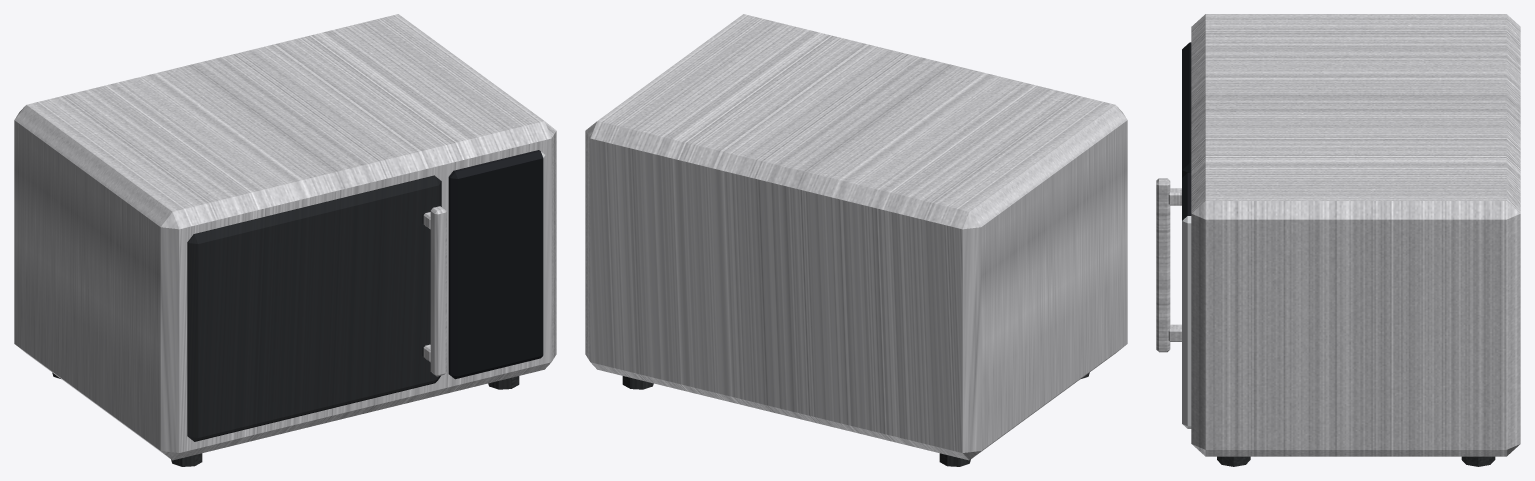
File: 07_Microondas_Oficina.obj
3 views of the same model, side by side, from view 1: azimuth 30°, elevation 25°; view 2: azimuth 150°, elevation 25°; view 3: azimuth 270°, elevation 25° (orthographic). The views are drawn at different scales.
Parts seen in each view (by area): view 1: 07_Microondas_Oficina; view 2: 07_Microondas_Oficina; view 3: 07_Microondas_Oficina.
Part boxes in pixels (x1=…): 07_Microondas_Oficina: x1=14, y1=14, x2=556, y2=466; 07_Microondas_Oficina: x1=585, y1=14, x2=1127, y2=466; 07_Microondas_Oficina: x1=1156, y1=14, x2=1520, y2=466.
Bounding box in the file's own units: 0.5 × 0.32 × 0.3875.
